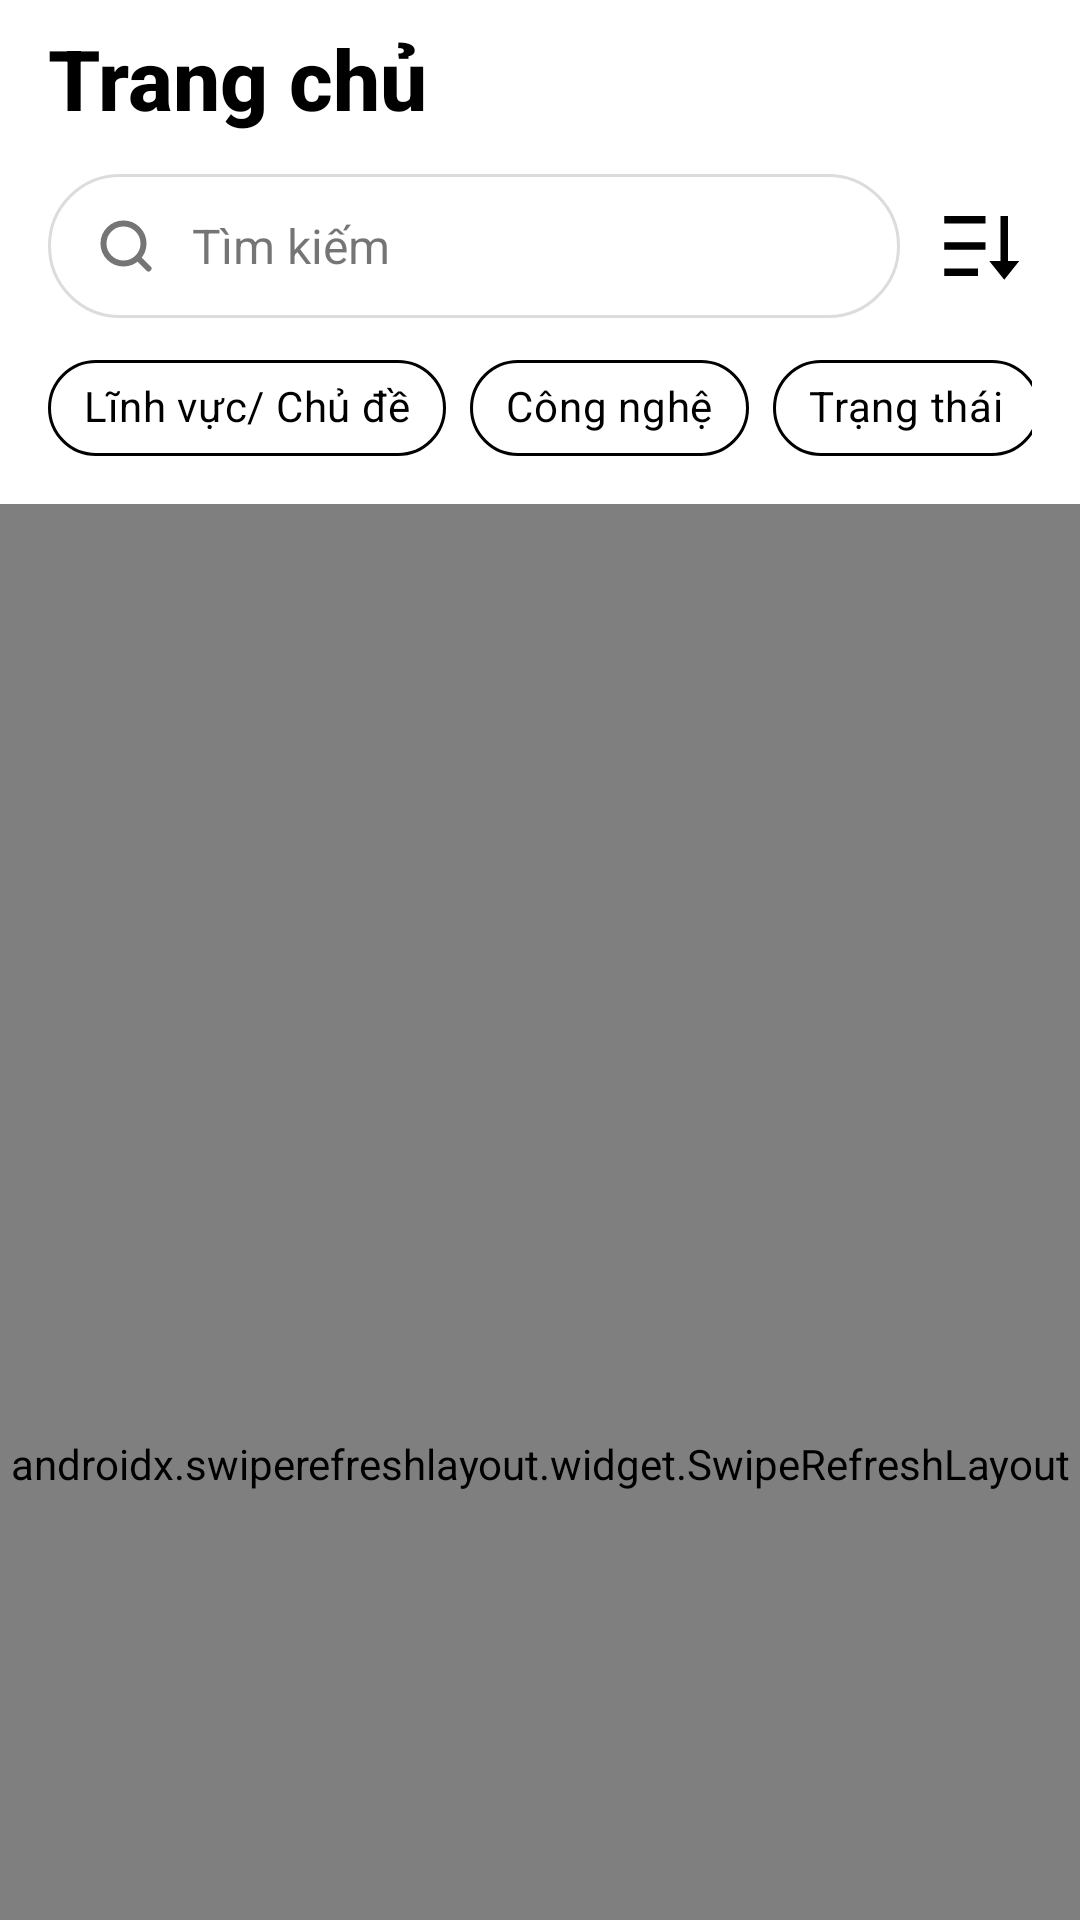

Where to tap for icons on this 1080w x 1920h app screen, as (x=x, y=y):
Sắp xếp: (x=981, y=248)
